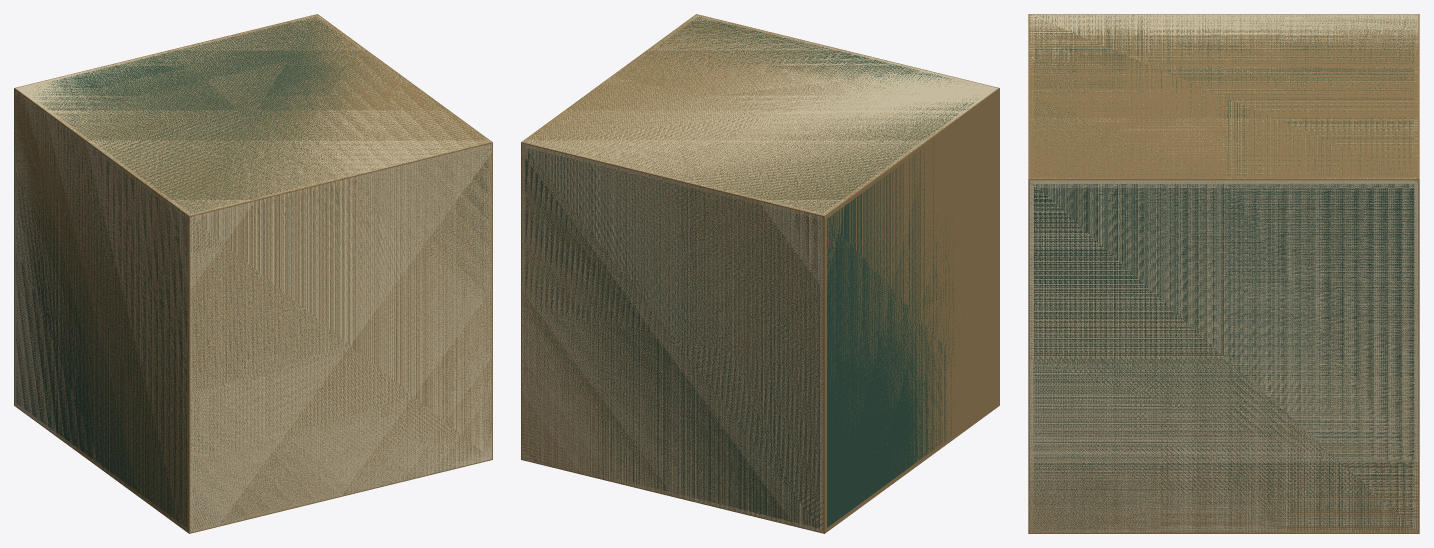
The model's file is Book_Variant_11.fbx.
The picture shows the model from 3 angles, left to right: view 1: azimuth 30°, elevation 25°; view 2: azimuth 150°, elevation 25°; view 3: azimuth 270°, elevation 25°; orthographic projection. The views are drawn at different scales.
Visible parts, largest first — view 1: Gilded title line.258, Book pages.125, Rounded book spine.125, Raised spine band.408; view 2: Book pages.125, Gilded title line.258, Rounded book spine.125, Raised spine band.408; view 3: Book pages.125, Gilded title line.258, Rounded book spine.125, Raised spine band.408.
Boxes of the visible parts, left/top/right/bottom form: Gilded title line.258: left=14, top=14, right=492, bottom=533; Book pages.125: left=14, top=15, right=491, bottom=532; Rounded book spine.125: left=16, top=17, right=488, bottom=526; Raised spine band.408: left=14, top=15, right=492, bottom=532; Book pages.125: left=522, top=15, right=997, bottom=532; Gilded title line.258: left=521, top=14, right=999, bottom=533; Rounded book spine.125: left=525, top=17, right=977, bottom=528; Raised spine band.408: left=521, top=15, right=999, bottom=532; Book pages.125: left=1029, top=14, right=1418, bottom=532; Gilded title line.258: left=1028, top=14, right=1419, bottom=533; Rounded book spine.125: left=1033, top=16, right=1414, bottom=529; Raised spine band.408: left=1029, top=14, right=1418, bottom=453.
Bounding box in the file's own units: 1 × 1 × 1.
